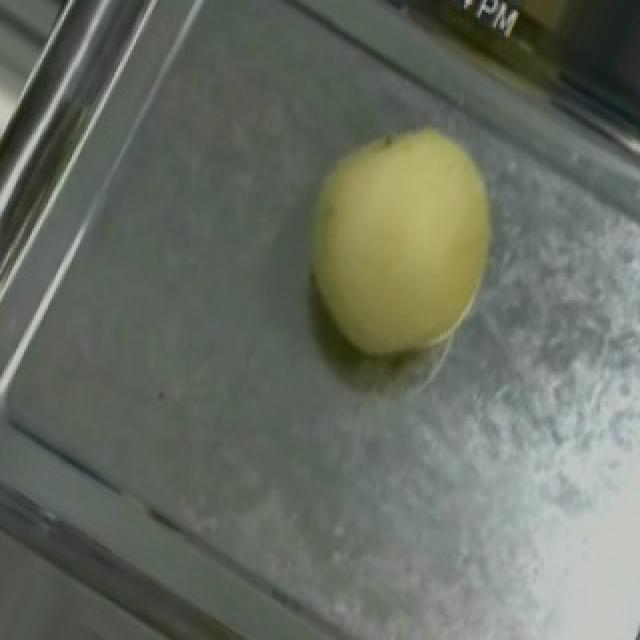Fruit: (256, 84, 542, 390)
